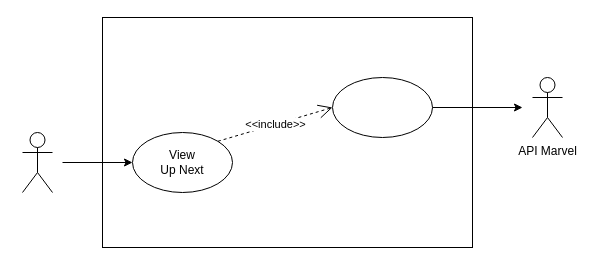
This 594x265 diagram has some shape labels left out. Here are the shapes that lost their labels. From the top down, the centre of each, then its label:
the point at 382,107: Request API Component
the point at 37,162: Logged User
